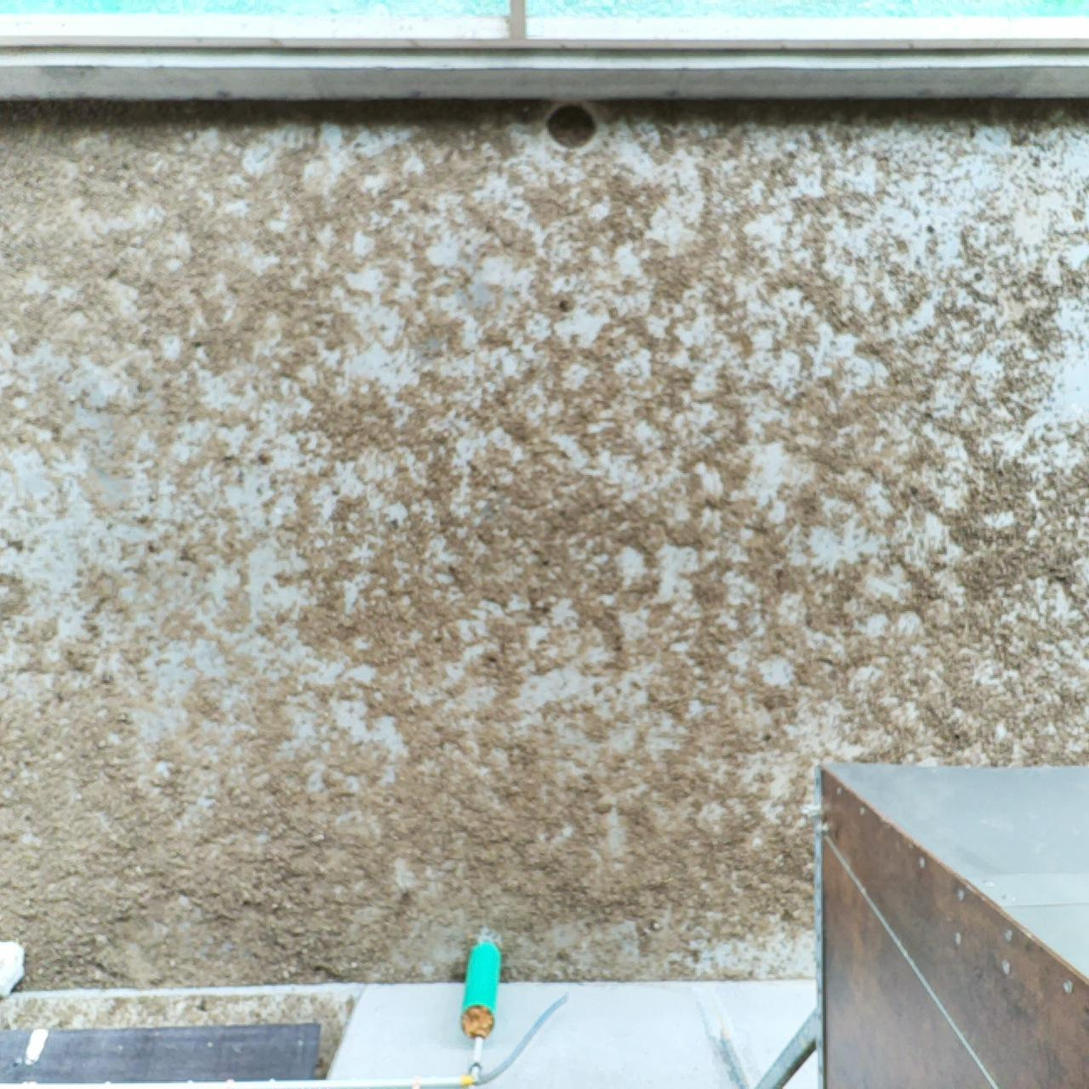chicken: (0, 933, 31, 1001)
